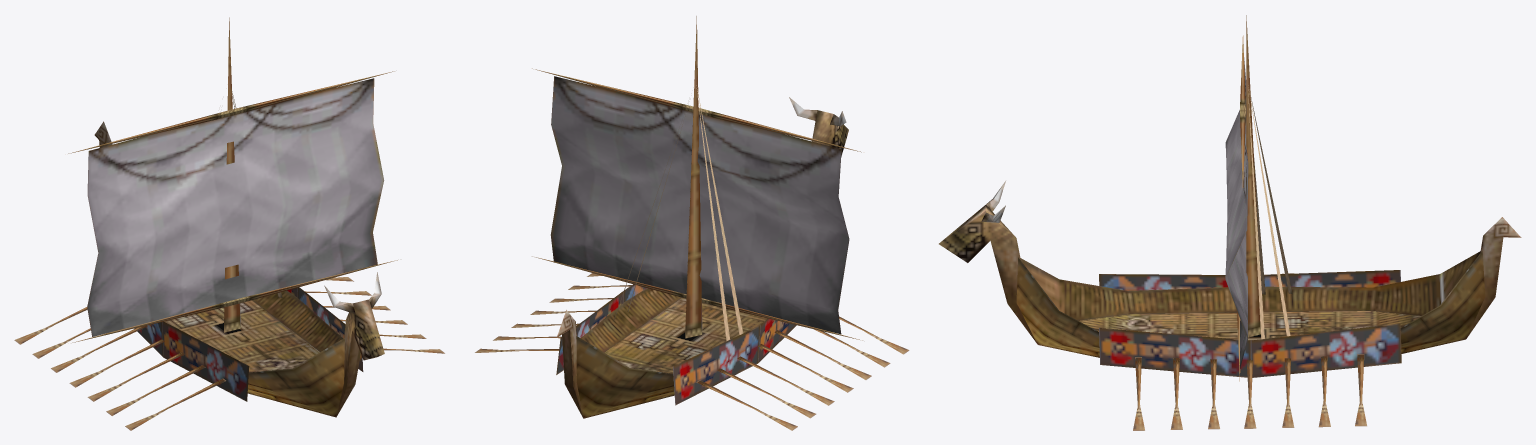
File: longboat_base.glb
The picture shows the model from 3 angles, left to right: view 1: azimuth 30°, elevation 25°; view 2: azimuth 150°, elevation 25°; view 3: azimuth 270°, elevation 25°; orthographic projection.
Visible parts, largest first — view 1: MeshRoot; view 2: MeshRoot; view 3: MeshRoot.
Boxes of the visible parts, box(x1,y1,x2,y2) form: MeshRoot: box(14, 17, 444, 430); MeshRoot: box(475, 16, 909, 430); MeshRoot: box(939, 15, 1521, 430).
Bounding box in the file's own units: 5.39 × 5.23 × 8.06.
Materials: 3 (3 with a texture image).
